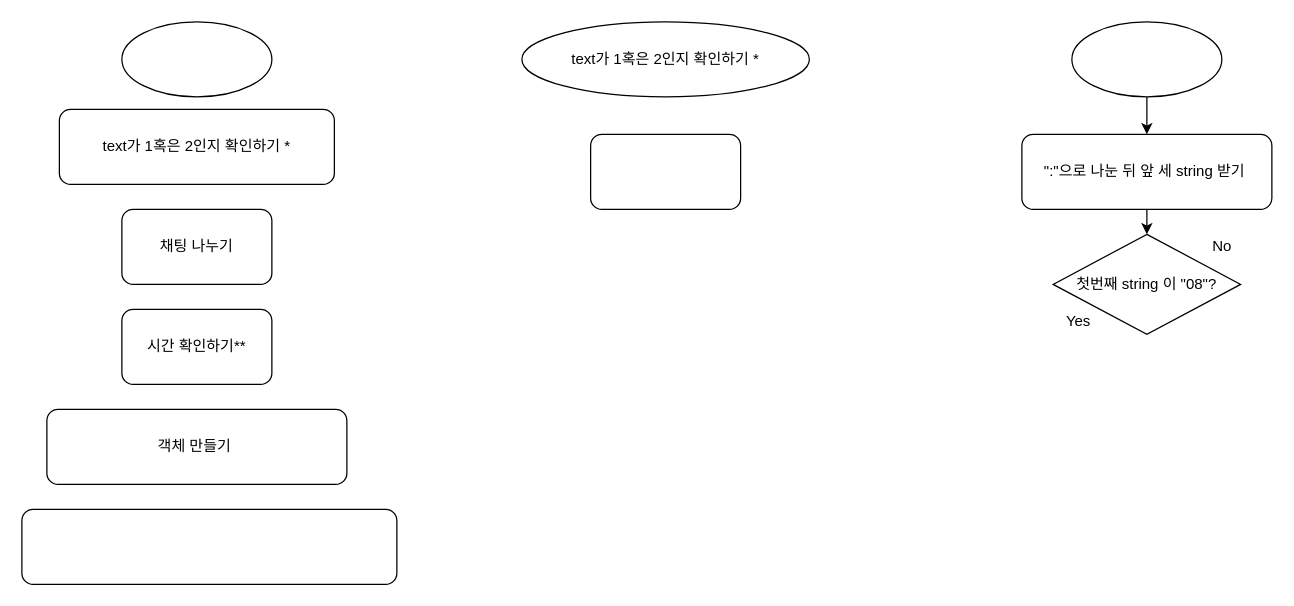
Image size: 1294x606. Some labels were removed from this diagram. The centre of each missing label's shape, as x and y in pixels:
start: point 196,59
수진자가 "석준 고" 인 체팅제외하고 삭제 뽑기: point 209,546
시간 확인하기 **: point 1146,59
